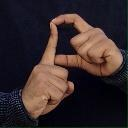hand: (21, 21, 74, 119), (52, 12, 123, 77)
